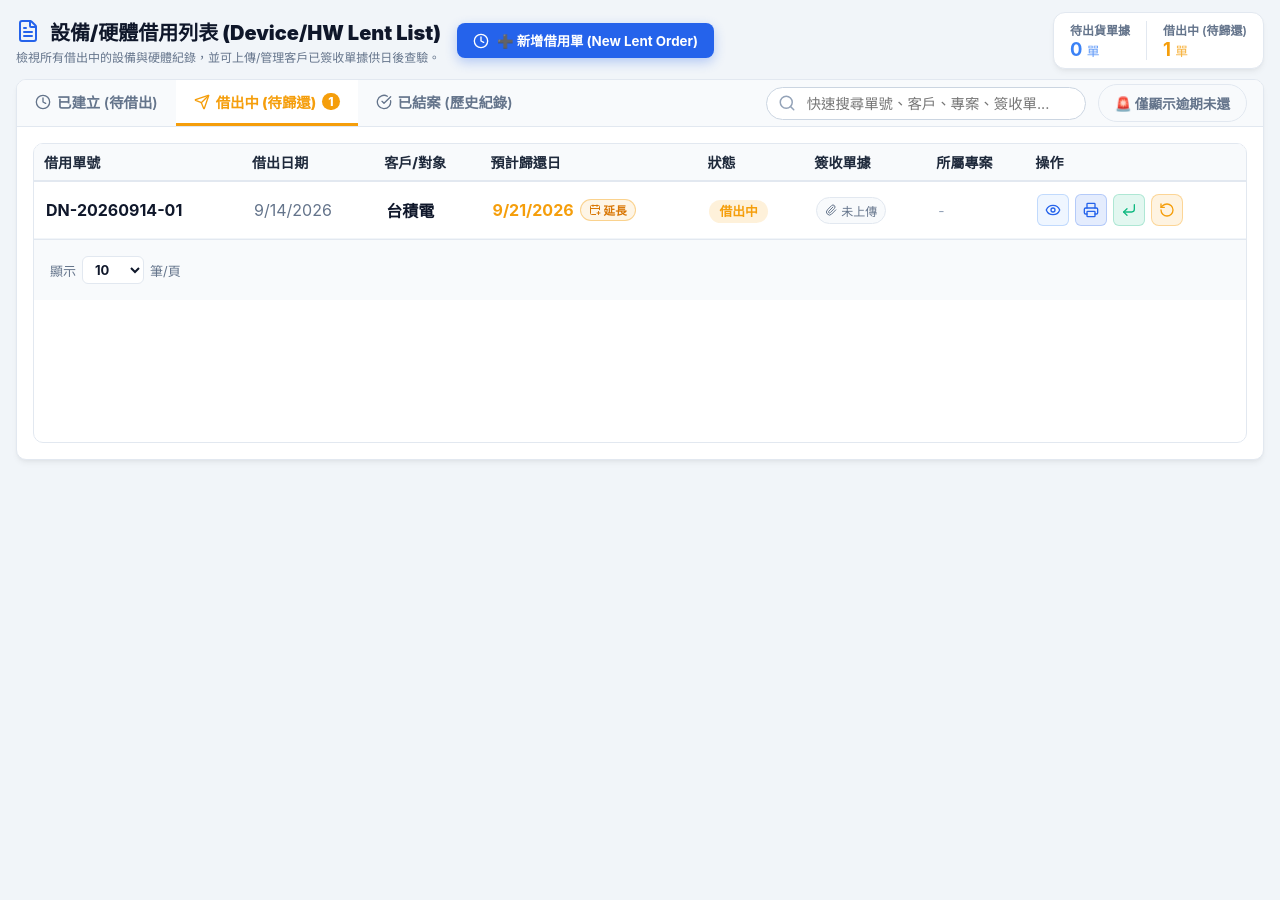
Scenario: 借用單：撤銷借出 › 確認視窗要說明這不是歸還，避免用錯
Expected: the text "DN-20260914-01" is shown, [34,181,242,238]
Click the button named "撤銷借出" at (1167,210), box [1151,194,1183,226]
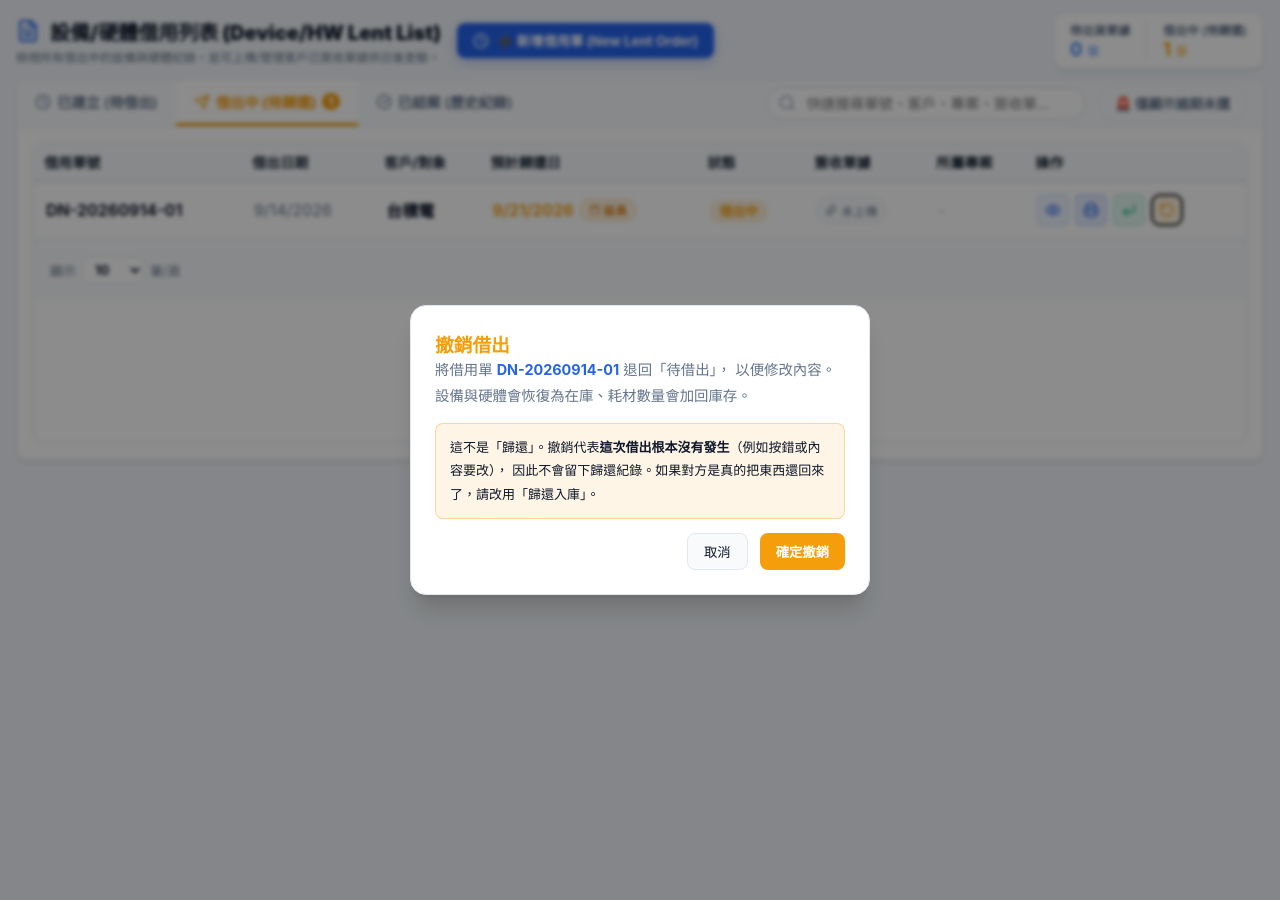
Result: the text "這不是「歸還」" is shown at [450,439,600,455]
Result: the text "請改用「歸還入庫」" is shown at [450,439,824,502]
